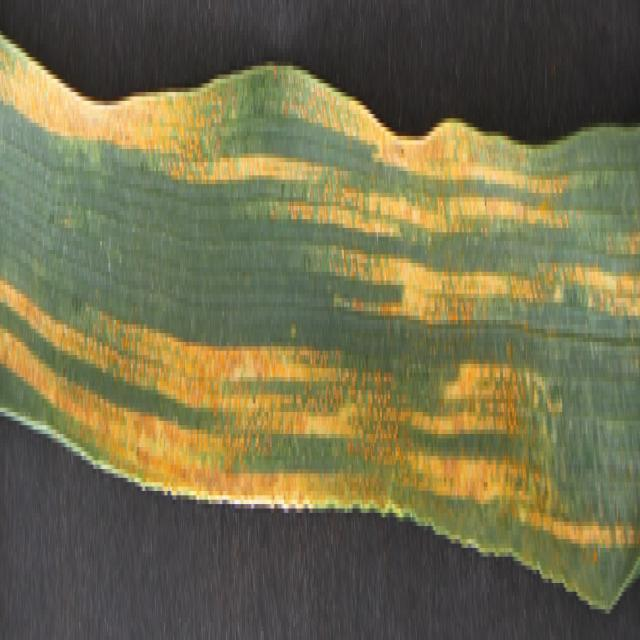leaf rust: (1, 13, 638, 522)
